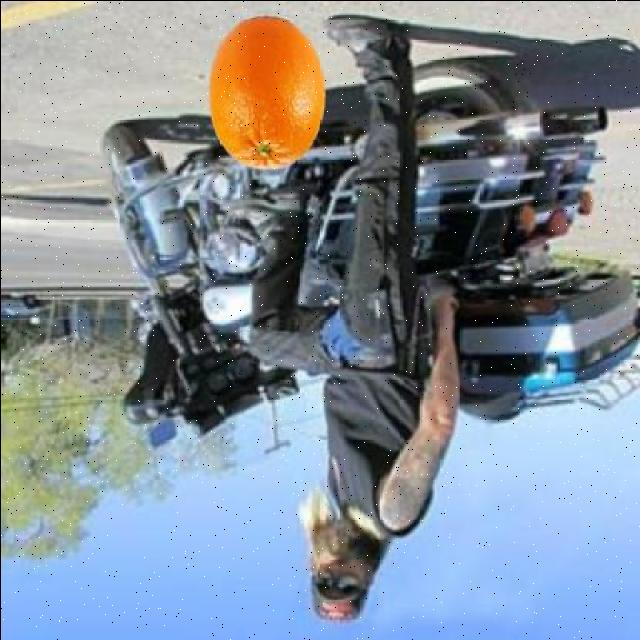Orange: (208, 16, 328, 172)
